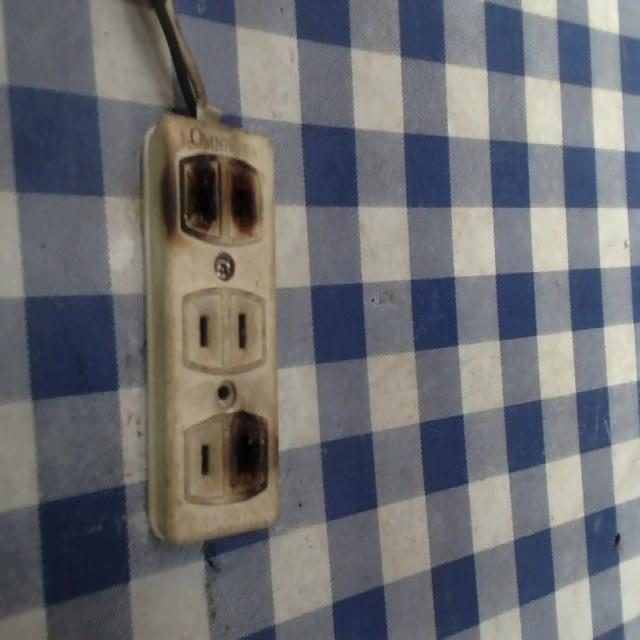-: (154, 144, 269, 255), (221, 404, 280, 507)
